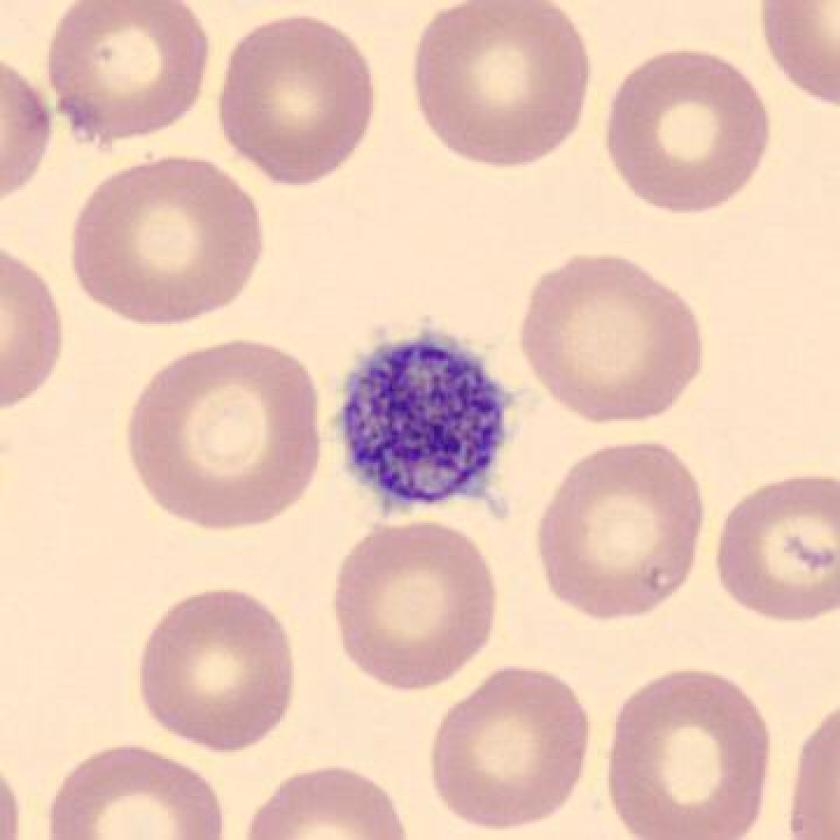platelets: (323, 314, 524, 529)
